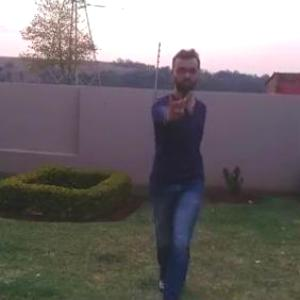takeoff-hand: (165, 84, 190, 120)
